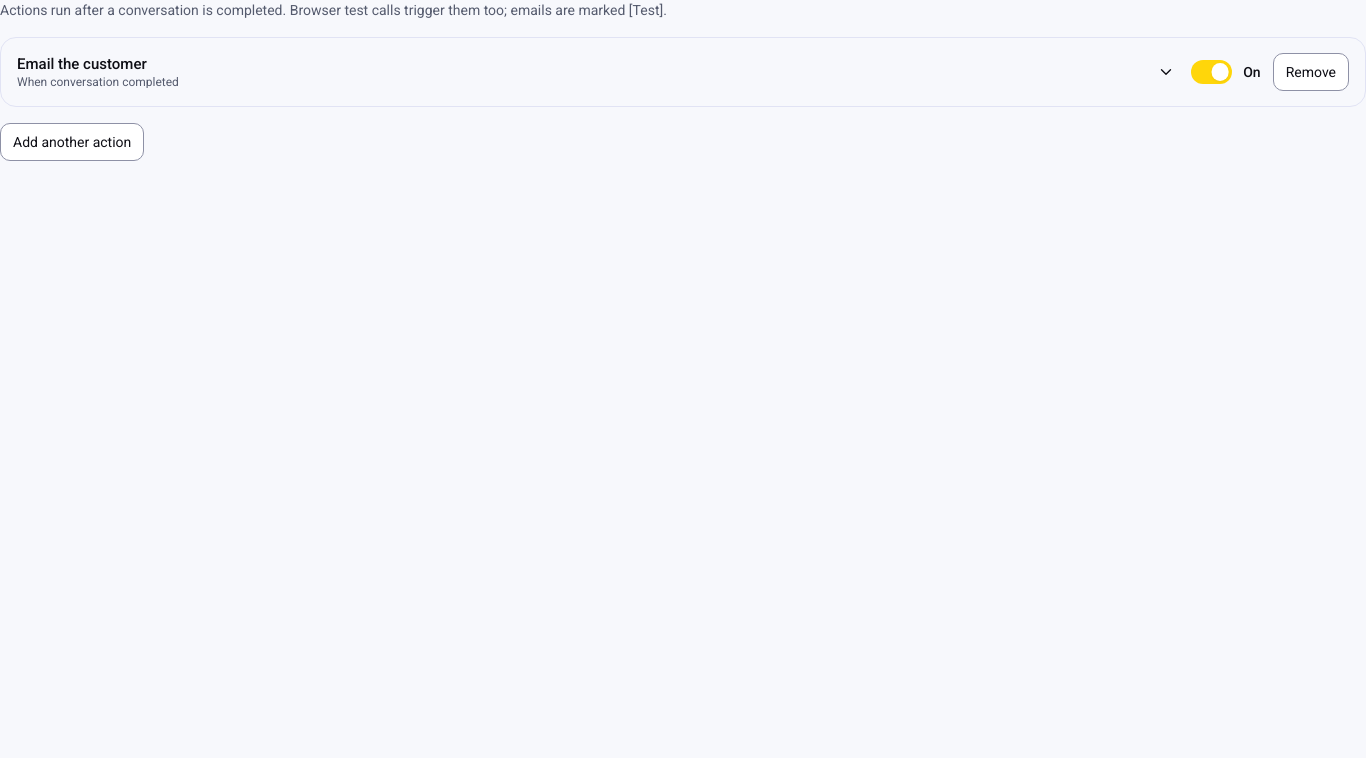
it: PostActionsEditor email templates › confirms before replacing custom text
Click the button with aria-label "Expand Email the customer settings" at (82, 64), box [17,50,1175,94]
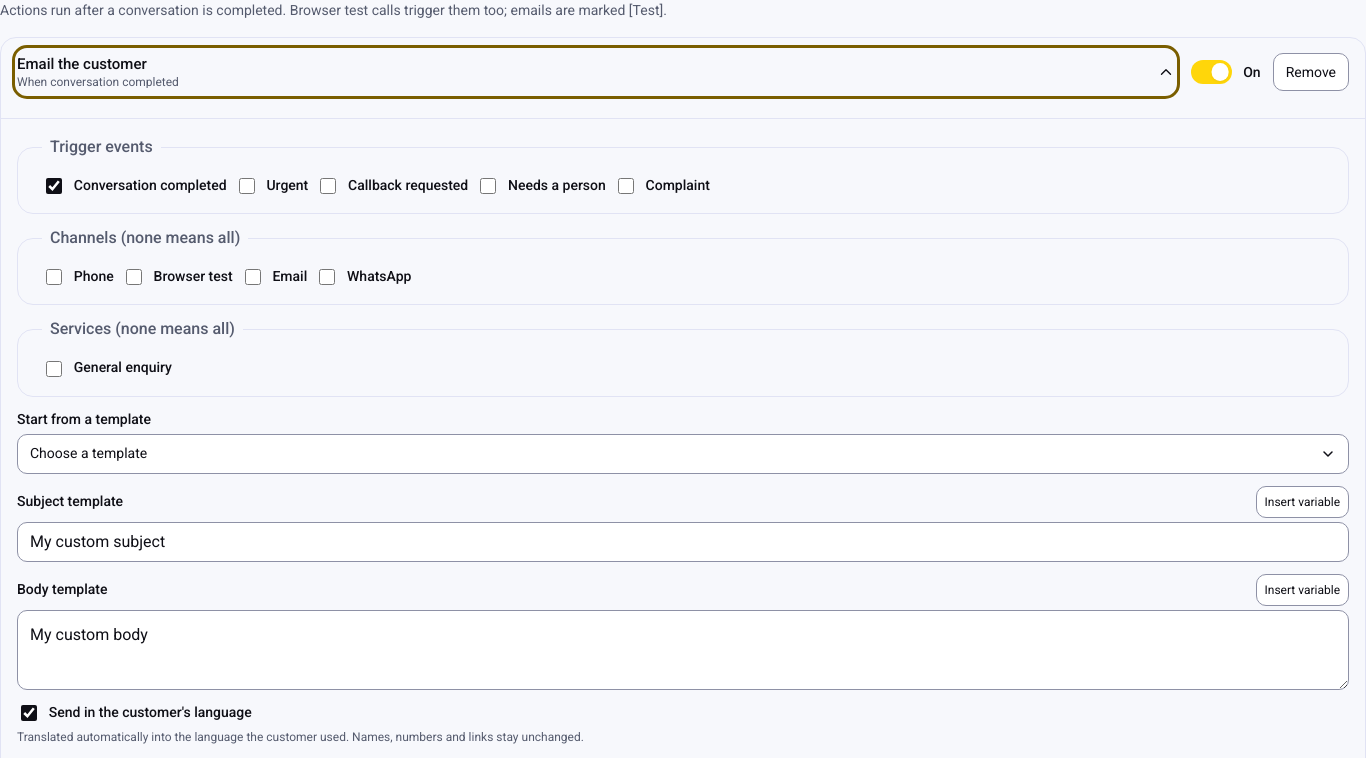
Select "Confirmation of inquiry" in the dropdown labelled "Start from a template" at (683, 454), box [17,434,1349,474]
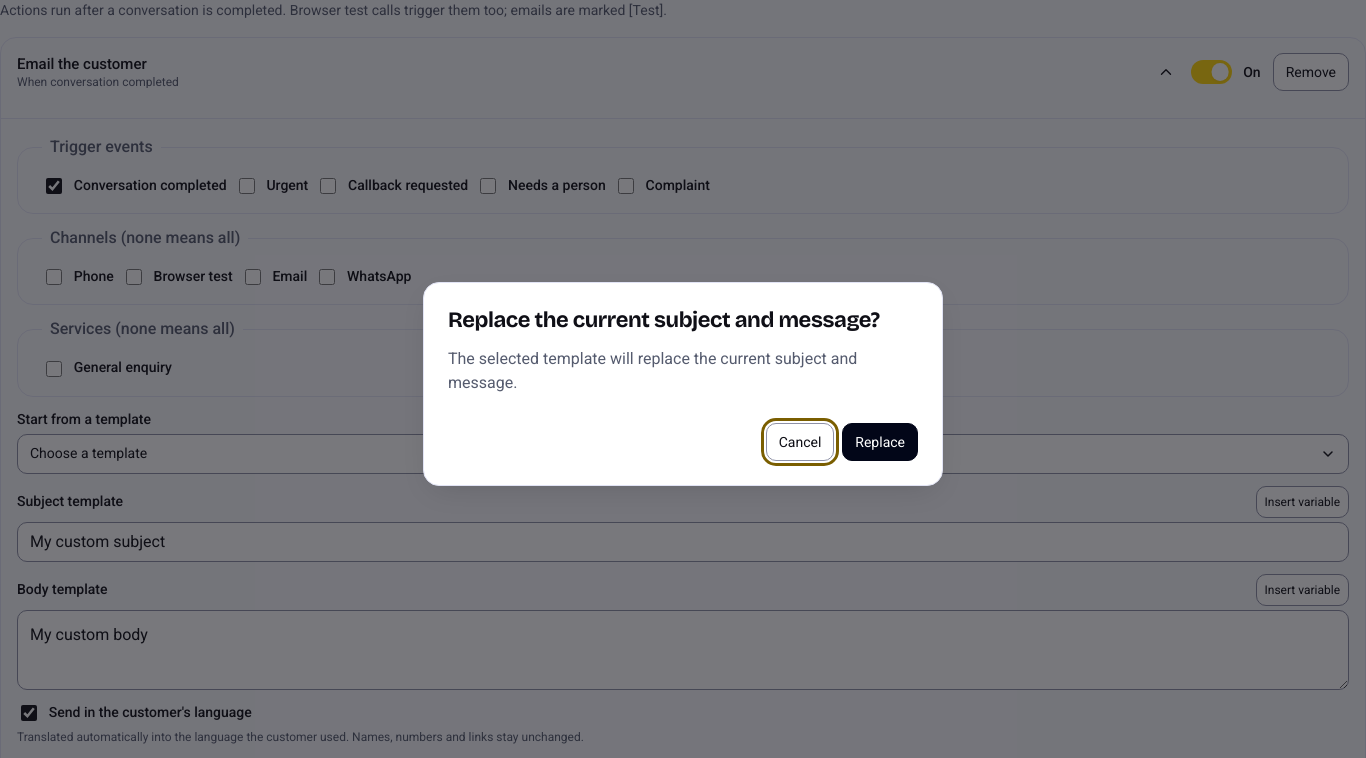
Now the dialog shows "Replace the current subject and message?", box [448,307,880,333]
Click the button "Replace" at (880, 442), box [842,423,918,461]
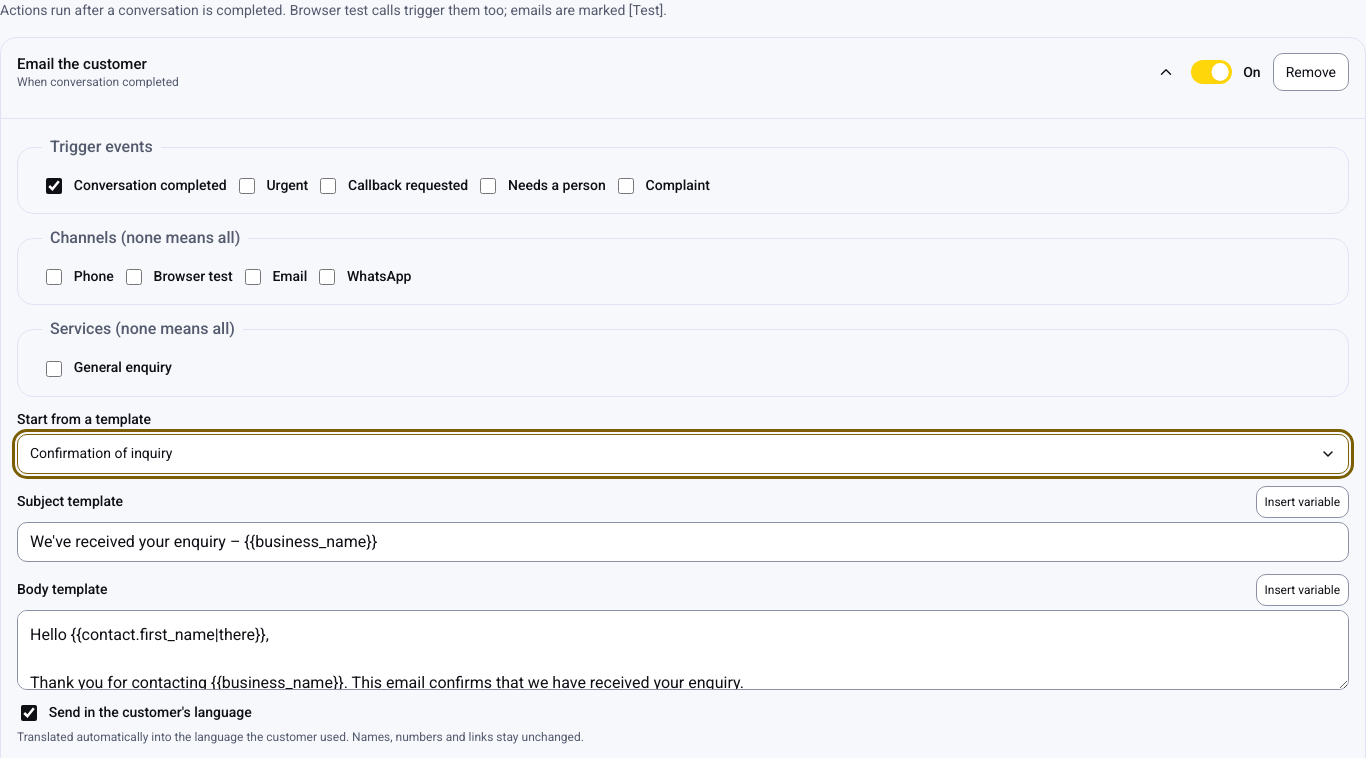
Now the field named "Subject template 1" holds "We've received your enquiry – {{business_name}}", box [17,522,1349,562]
